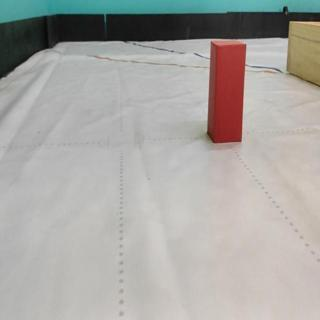redbox: (206, 38, 246, 145)
